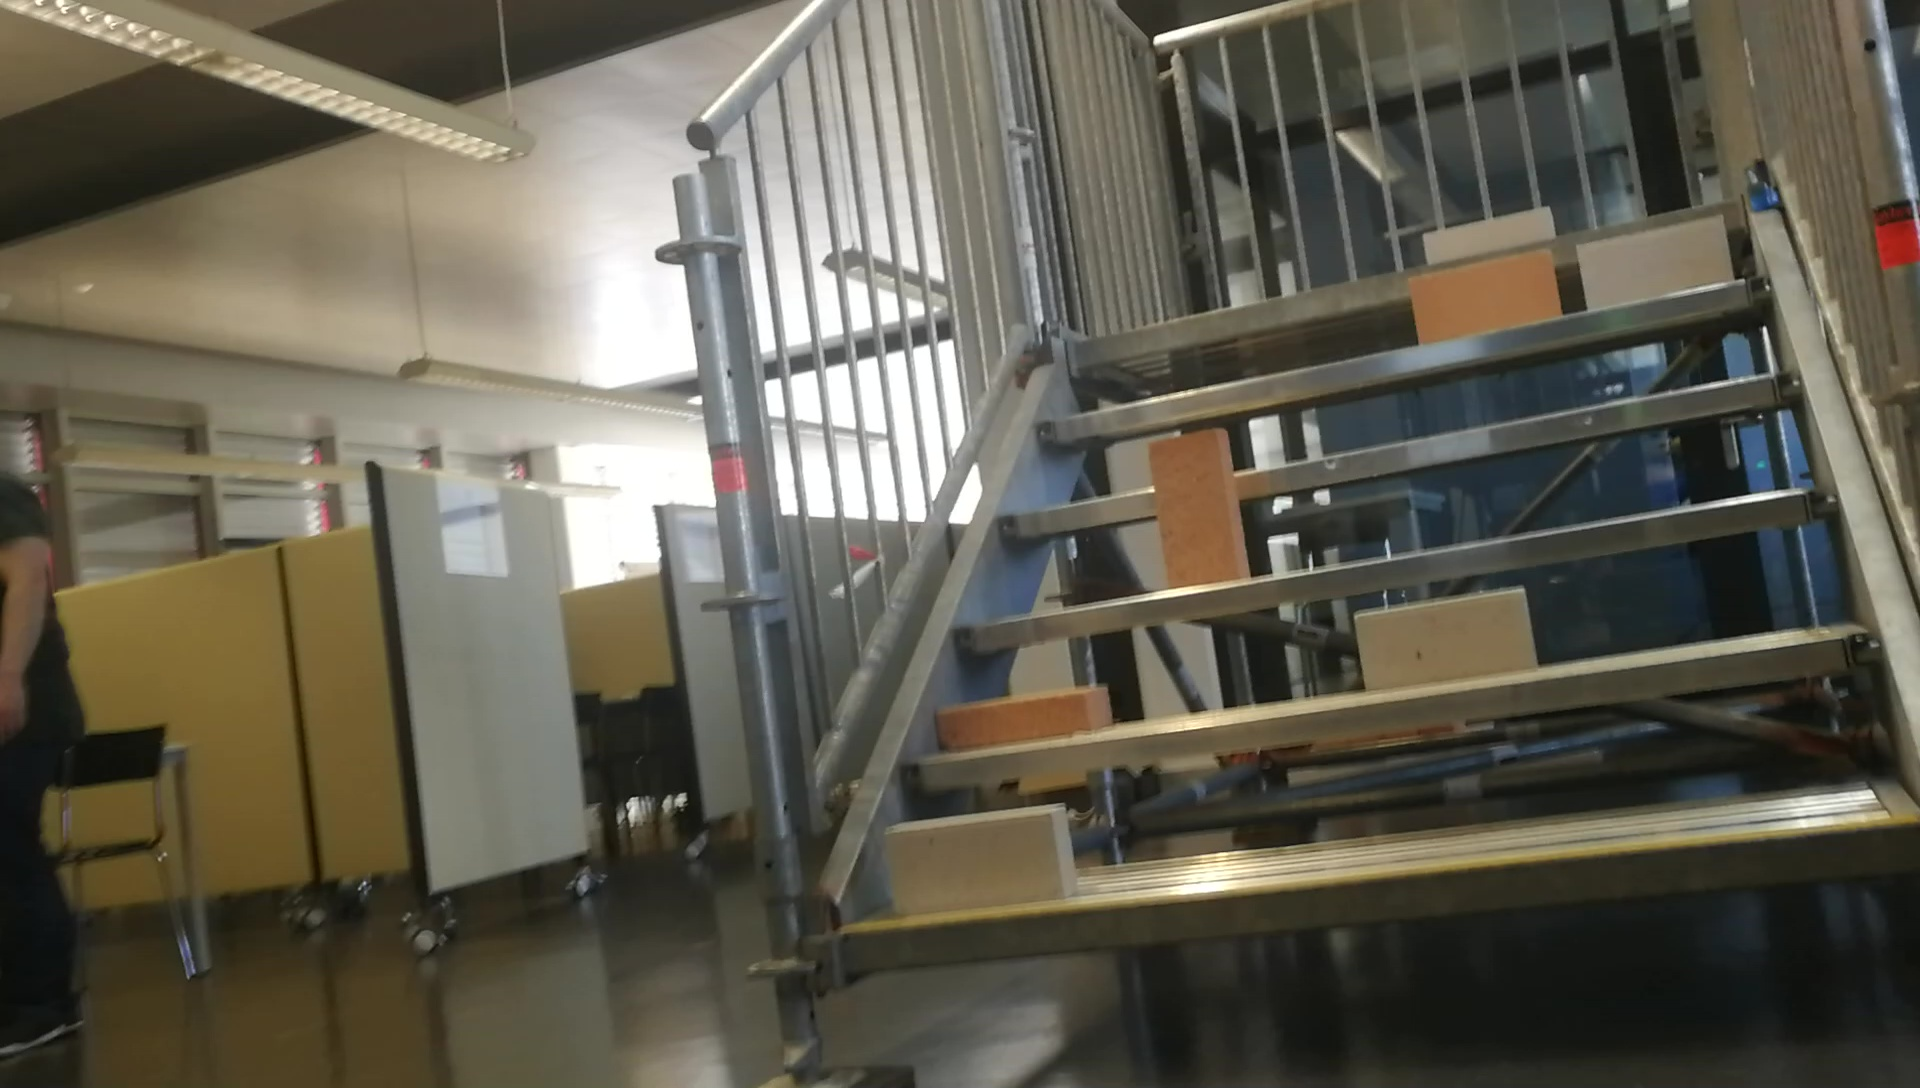brick: (884, 804, 1072, 918), (1357, 586, 1538, 688), (1150, 433, 1247, 588), (1580, 218, 1733, 313), (1407, 253, 1557, 343), (934, 684, 1108, 750), (1424, 207, 1551, 258)
edge: (831, 818, 1917, 971), (902, 630, 1875, 787), (960, 483, 1833, 645), (997, 369, 1792, 541), (1033, 284, 1768, 440)
stairs: (653, 3, 1920, 1088)
steps: (799, 196, 1920, 996)
